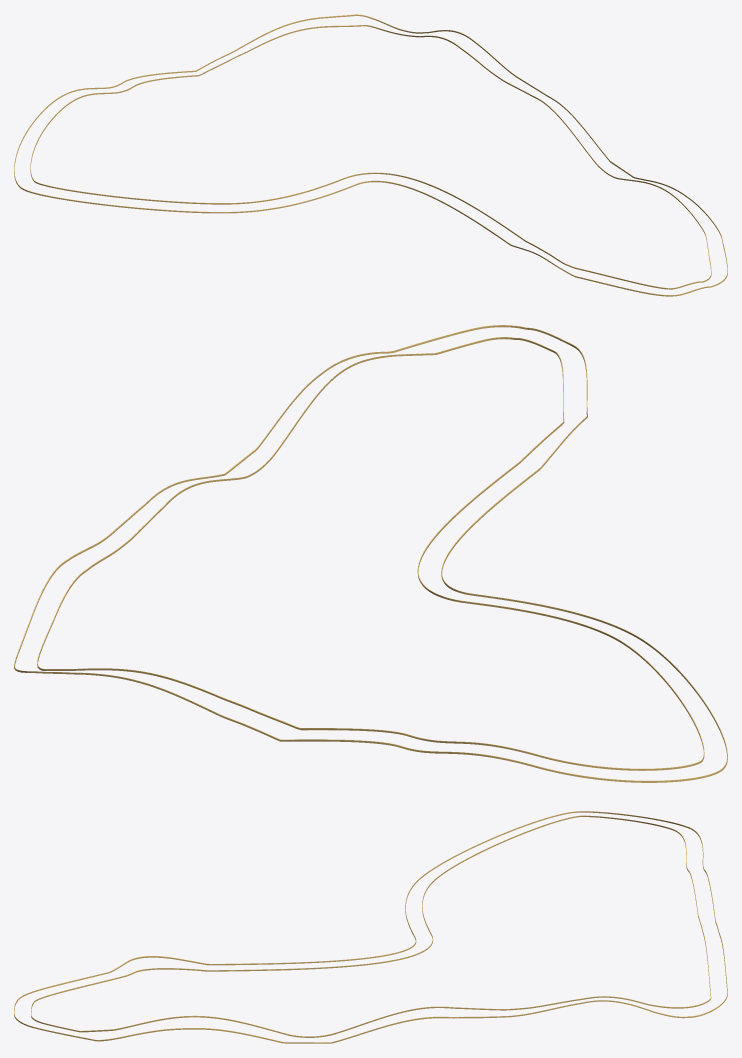
Rendered from OTW1ConEd.fbx.
3 views of the same model, one above another, from view 1: azimuth 30°, elevation 25°; view 2: azimuth 150°, elevation 25°; view 3: azimuth 270°, elevation 25° (orthographic). The views are drawn at different scales.
Visible parts, largest first — view 1: ConcreteEdge; view 2: ConcreteEdge; view 3: ConcreteEdge.
Part boxes in pixels (x1,y1,x2,y2): ConcreteEdge: (14, 14, 727, 296); ConcreteEdge: (14, 325, 727, 782); ConcreteEdge: (14, 811, 727, 1043).
Bounding box in the file's own units: 90998 × 6857 × 116329.
